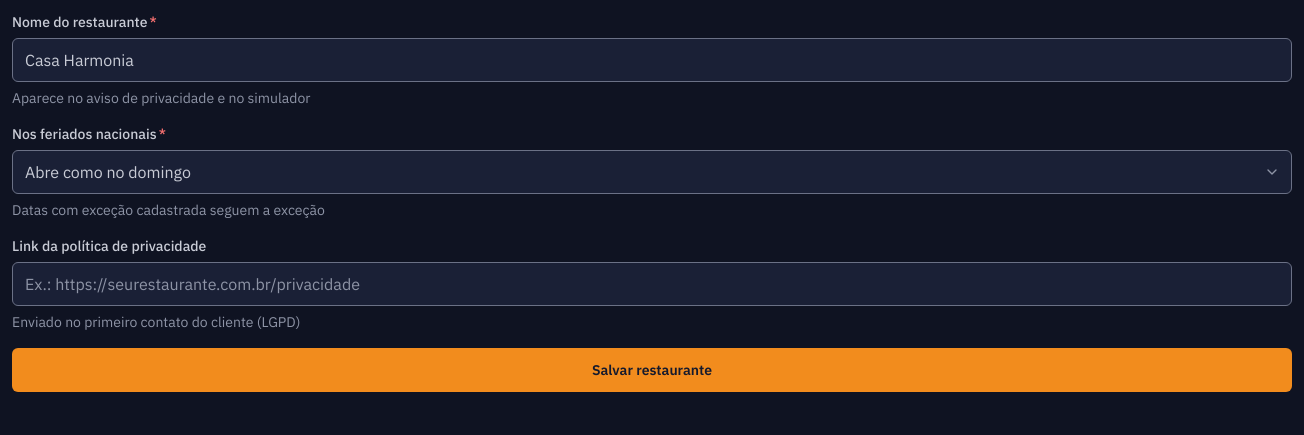
Test: RestauranteForm › explica a política de feriado e valida o link
Type "http://casa.test" into the field labelled "Link da política de privacidade" at (652, 284), box left=12, top=262, right=1292, bottom=306
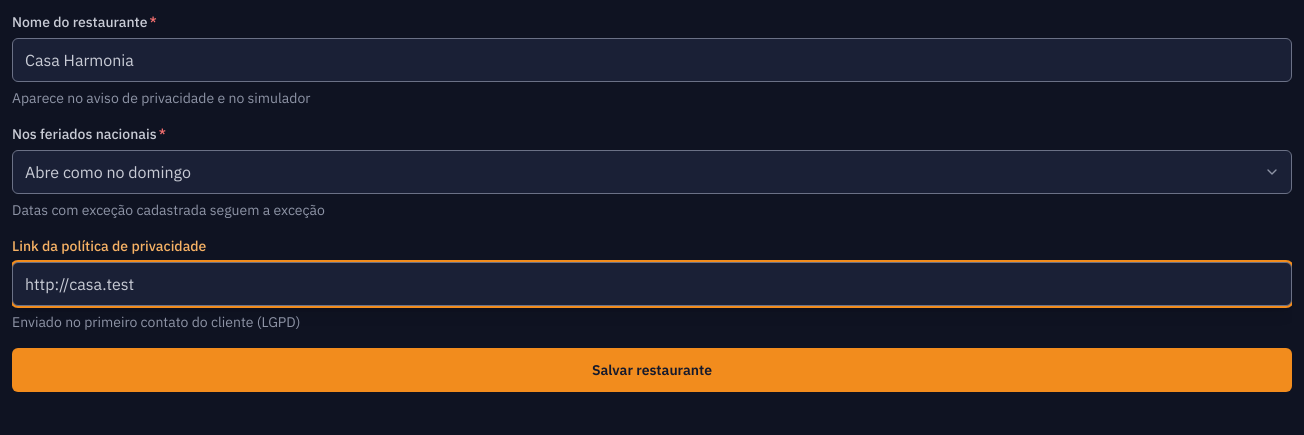
Click the button "Salvar restaurante" at (652, 370), box left=12, top=348, right=1292, bottom=392
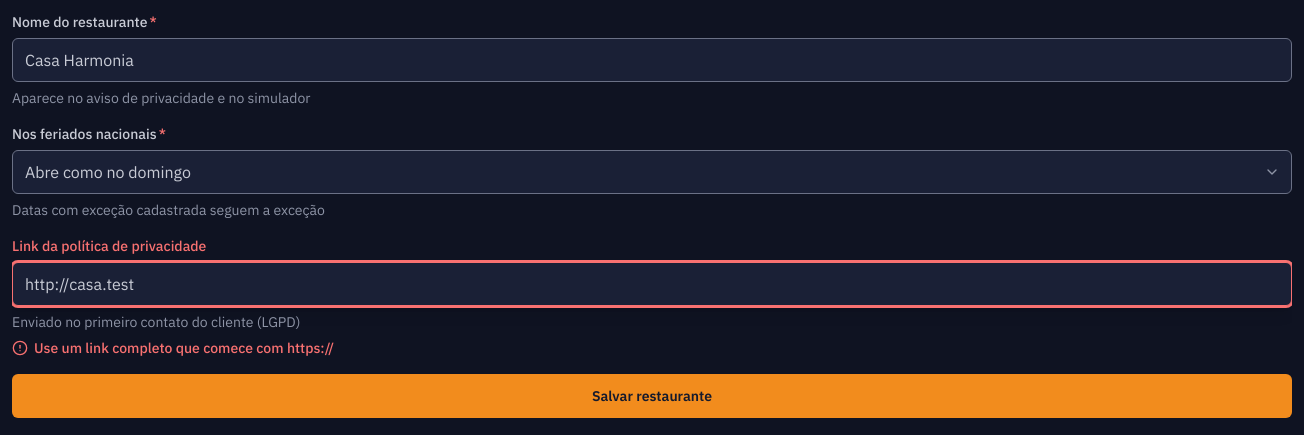
Result: the text "Use um link completo que comece com https://" is shown at left=12, top=339, right=334, bottom=357
